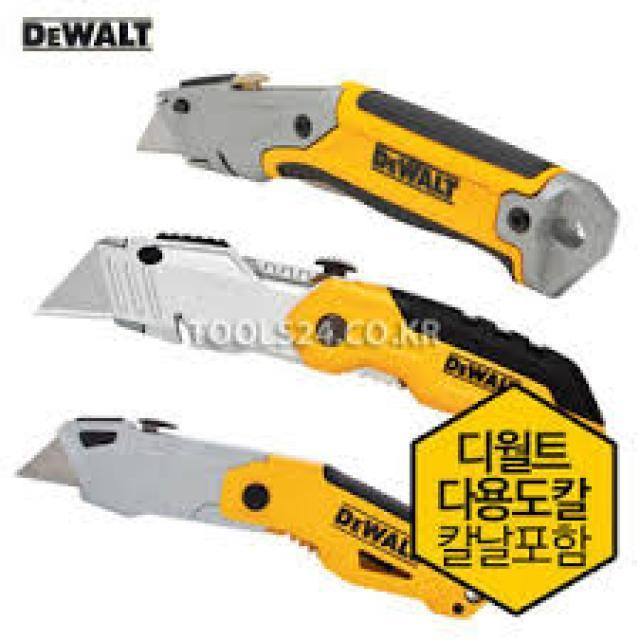cutter: (24, 208, 596, 456), (124, 39, 630, 318), (14, 404, 494, 640)
